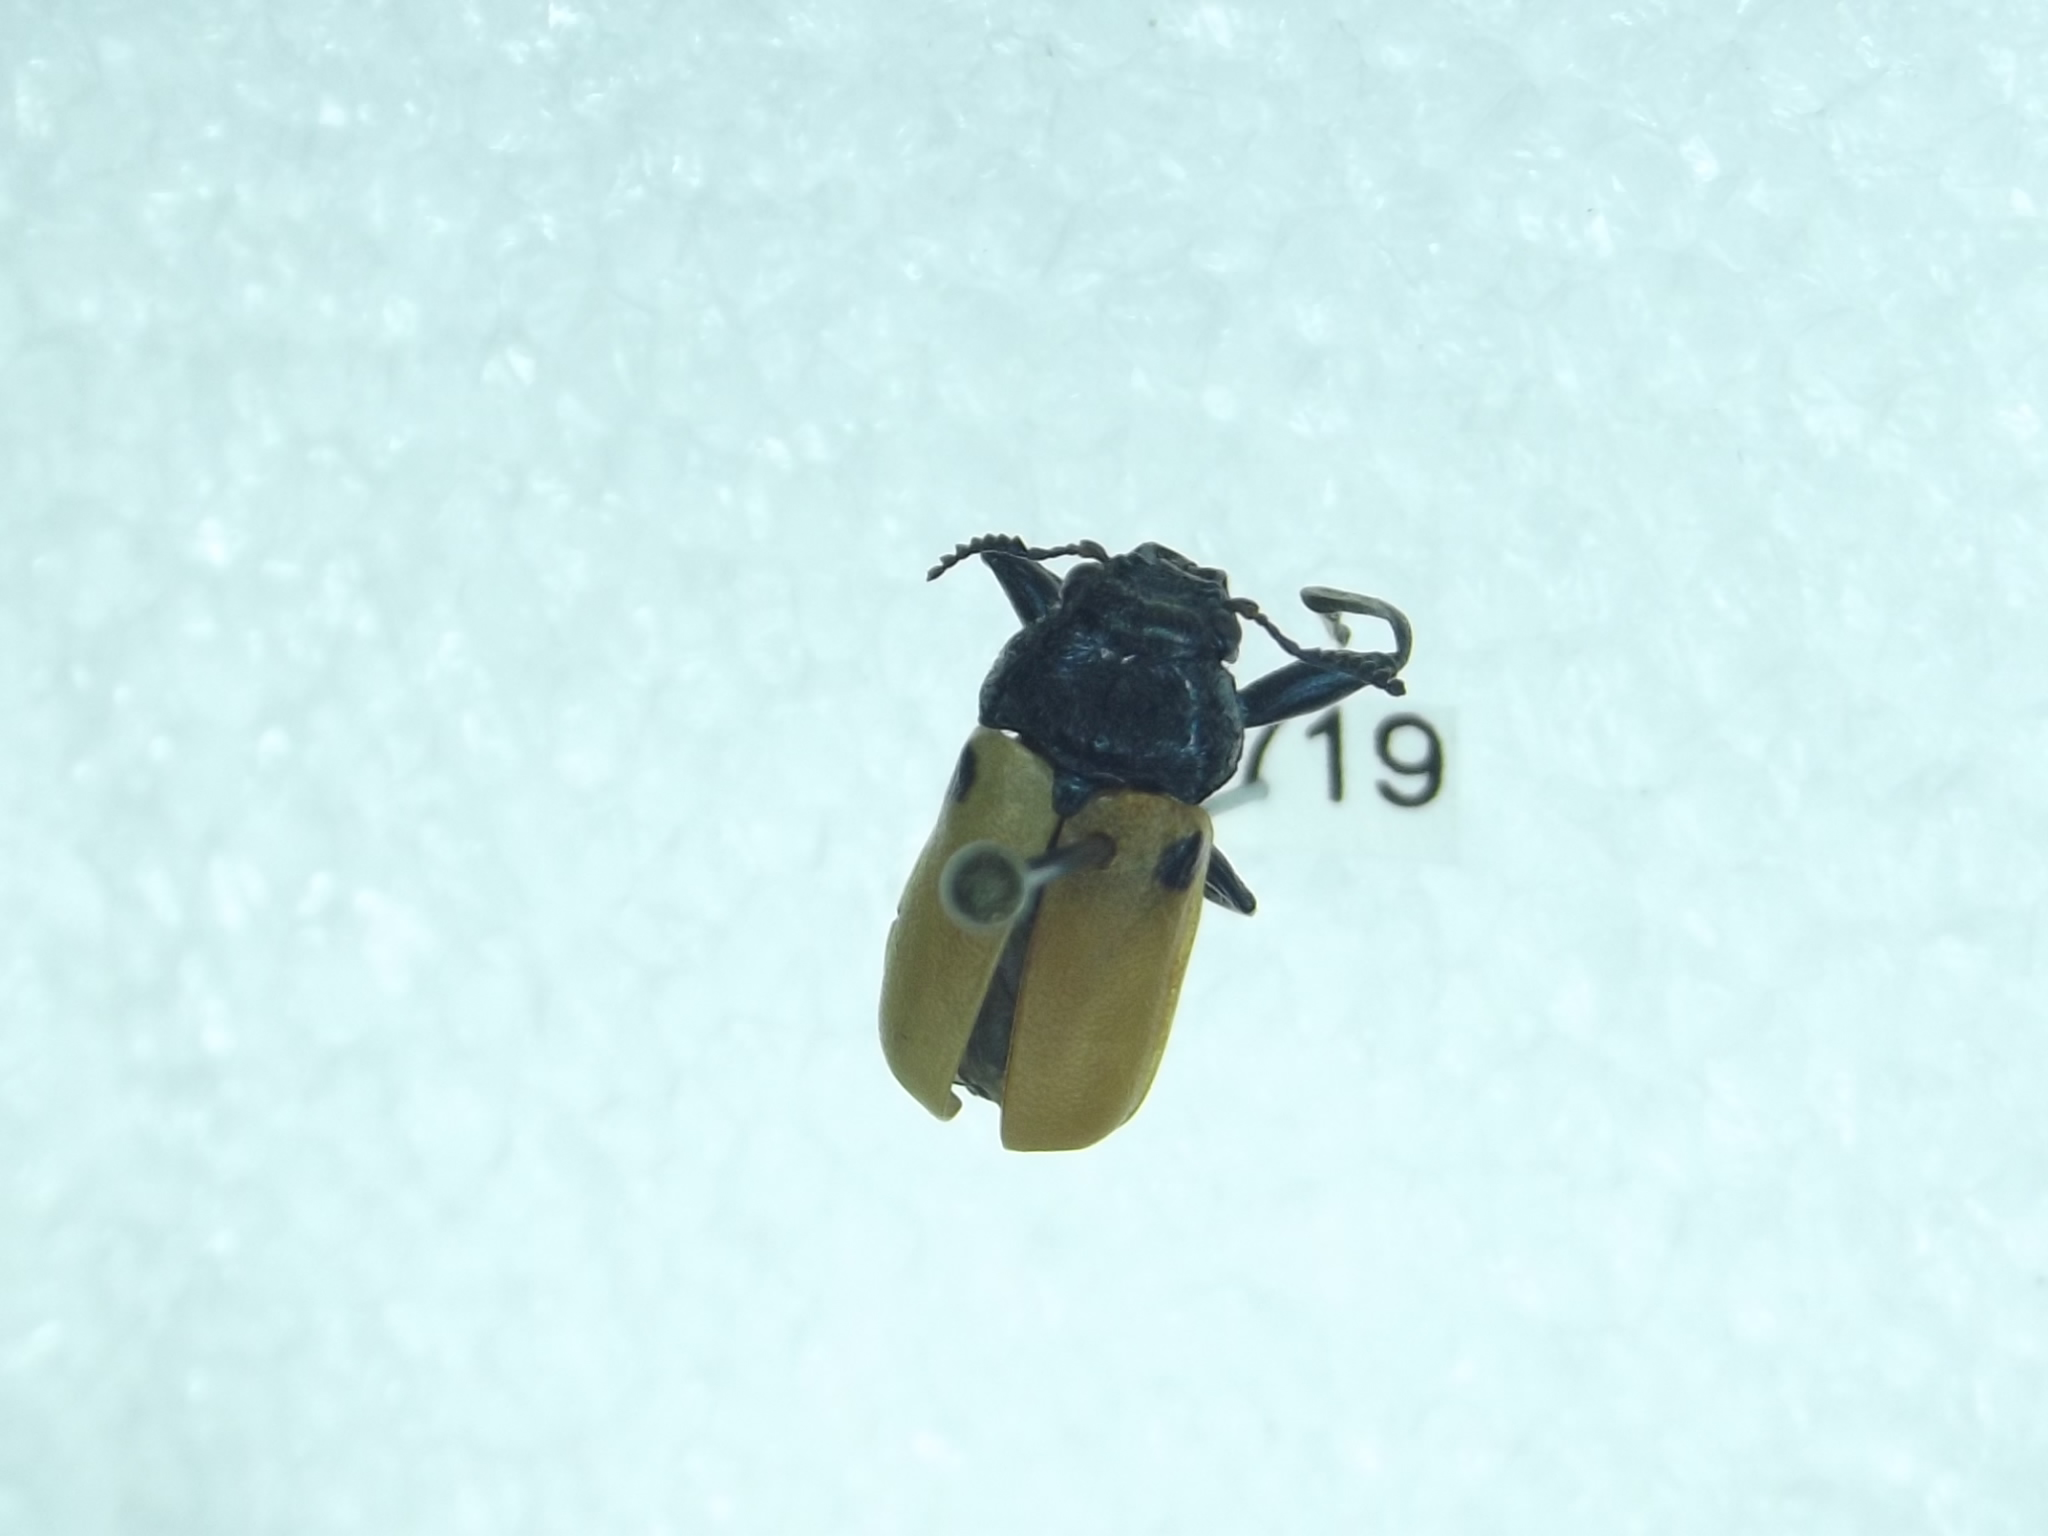Labidostomis_propinqua: (872, 521, 1409, 1176)
